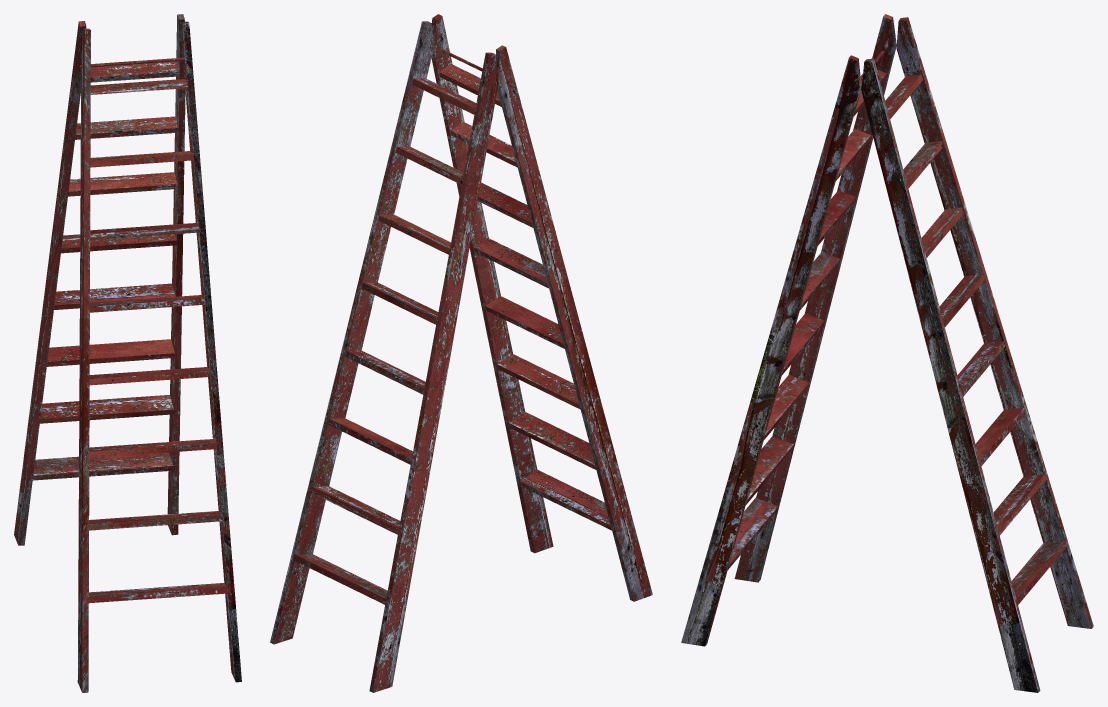
File: ladder.fbx
The picture shows the model from 3 angles, left to right: view 1: azimuth 30°, elevation 25°; view 2: azimuth 150°, elevation 25°; view 3: azimuth 270°, elevation 25°; orthographic projection. The views are drawn at different scales.
Visible parts, largest first — view 1: escalerab, escalera1; view 2: escalerab, escalera1; view 3: escalerab, escalera1.
Boxes of the visible parts, x1=… form: escalerab: x1=14, y1=14, x2=185, y2=545; escalera1: x1=77, y1=21, x2=241, y2=692; escalerab: x1=270, y1=21, x2=498, y2=692; escalera1: x1=431, y1=14, x2=652, y2=601; escalerab: x1=861, y1=17, x2=1093, y2=692; escalera1: x1=681, y1=14, x2=896, y2=646.
Size of the model in its own units: 10.07 by 23.76 by 14.78.
